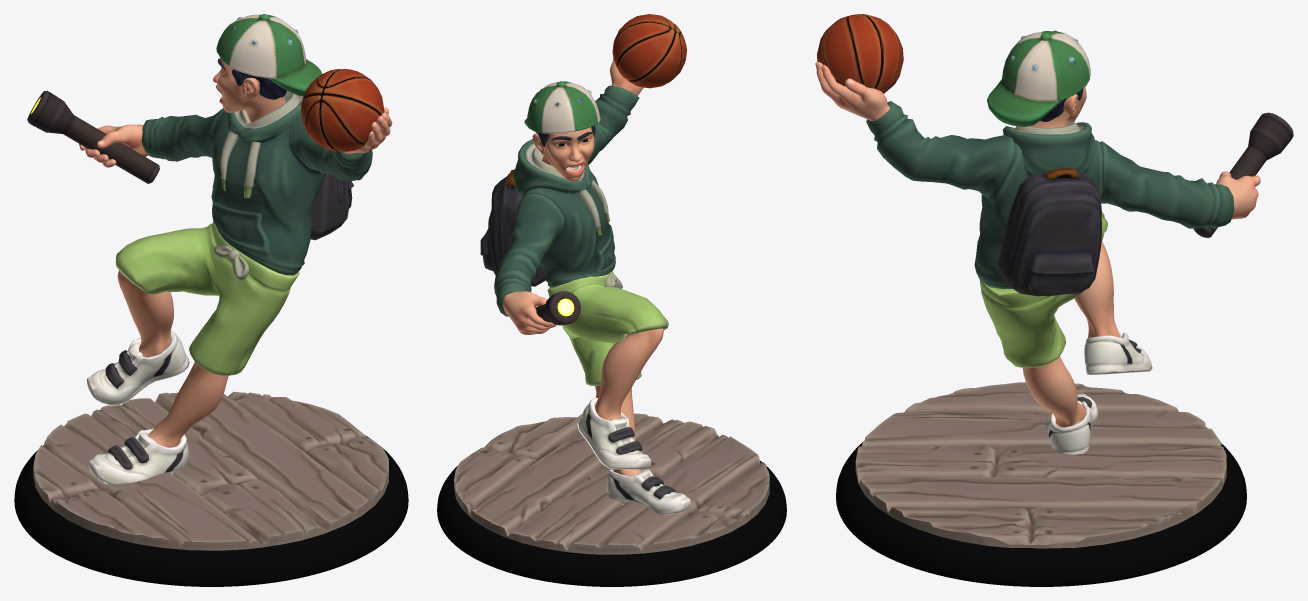
File: SM_PeterAkimoto.fbx
3 renders of one model, left to right at view 1: azimuth 30°, elevation 25°; view 2: azimuth 150°, elevation 25°; view 3: azimuth 270°, elevation 25°, orthographic. The views are drawn at different scales.
Visible parts, largest first — view 1: hf_4411755_5481260; view 2: hf_4411755_5481260; view 3: hf_4411755_5481260.
Boxes of the visible parts, <box> form: hf_4411755_5481260: <box>14,14,408,586</box>; hf_4411755_5481260: <box>437,14,786,586</box>; hf_4411755_5481260: <box>815,14,1293,586</box>.
Size of the model in its own units: 135 by 183 by 157.
